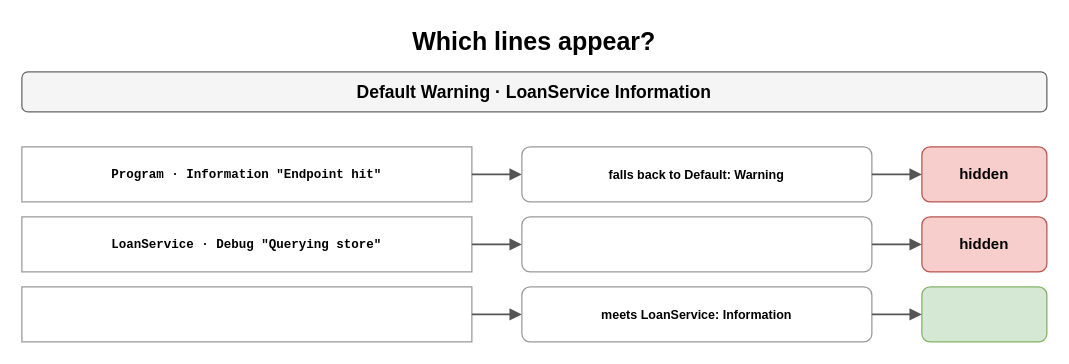
Some shapes in this 1069 by 364 pixel diagram are drawn without their labels. Each missing label, with the centre of its shape:
below LoanService: Information: point 696,244
LoanService · Information "Counted loans": point 246,314
shown: point 984,314
